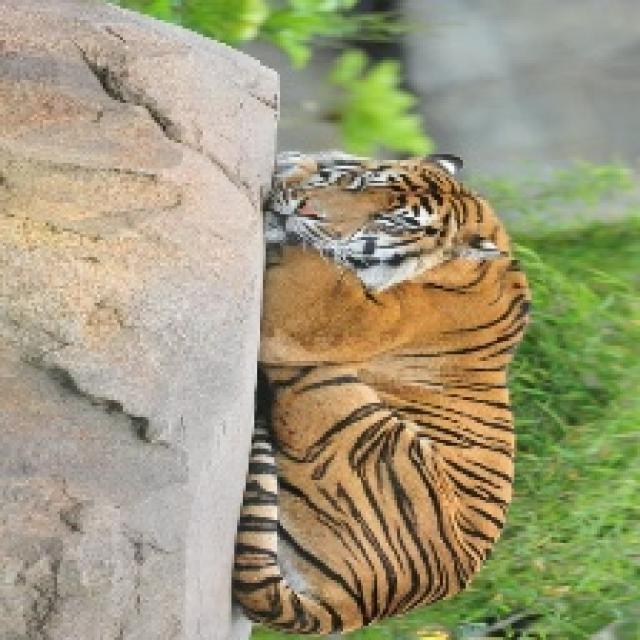bear: (241, 135, 559, 640)
